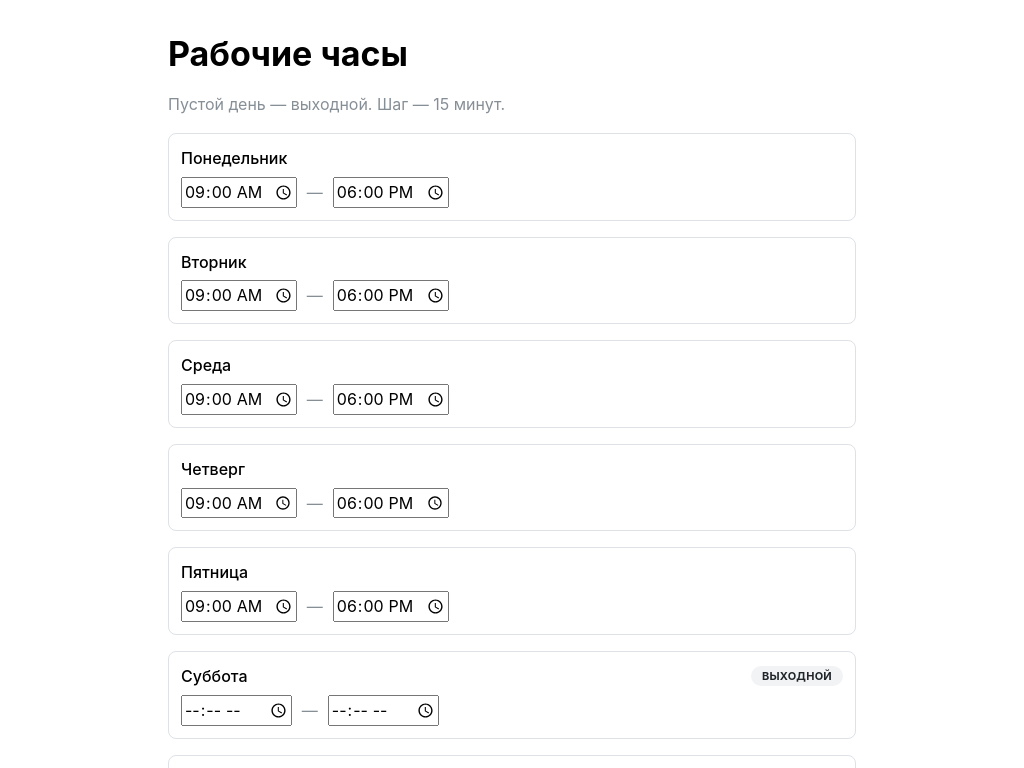
Test: Редактор рабочих часов › блокирует сохранение при частично заполненном дне
Expected: the time field named "Понедельник начало" is shown, [181,177,297,208]
Clear the time field named "Понедельник конец" at [391, 192], box [333,177,449,208]
(page scrolled)
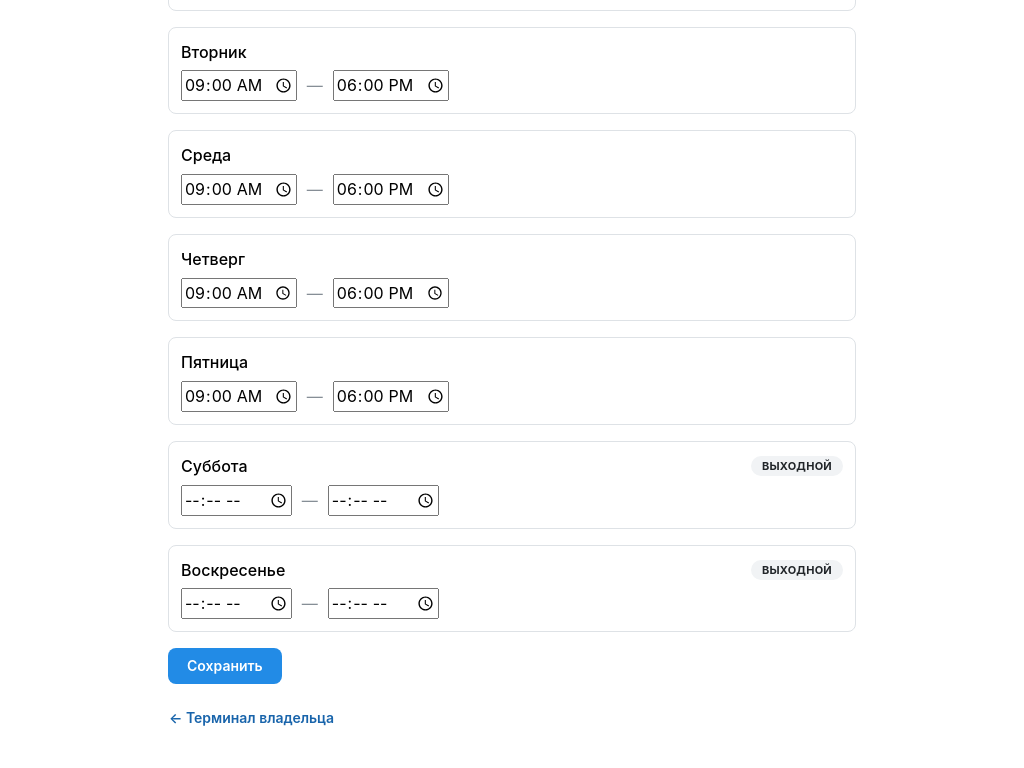
Click the button "Сохранить".
click(225, 666)  # box [168,648,282,684]
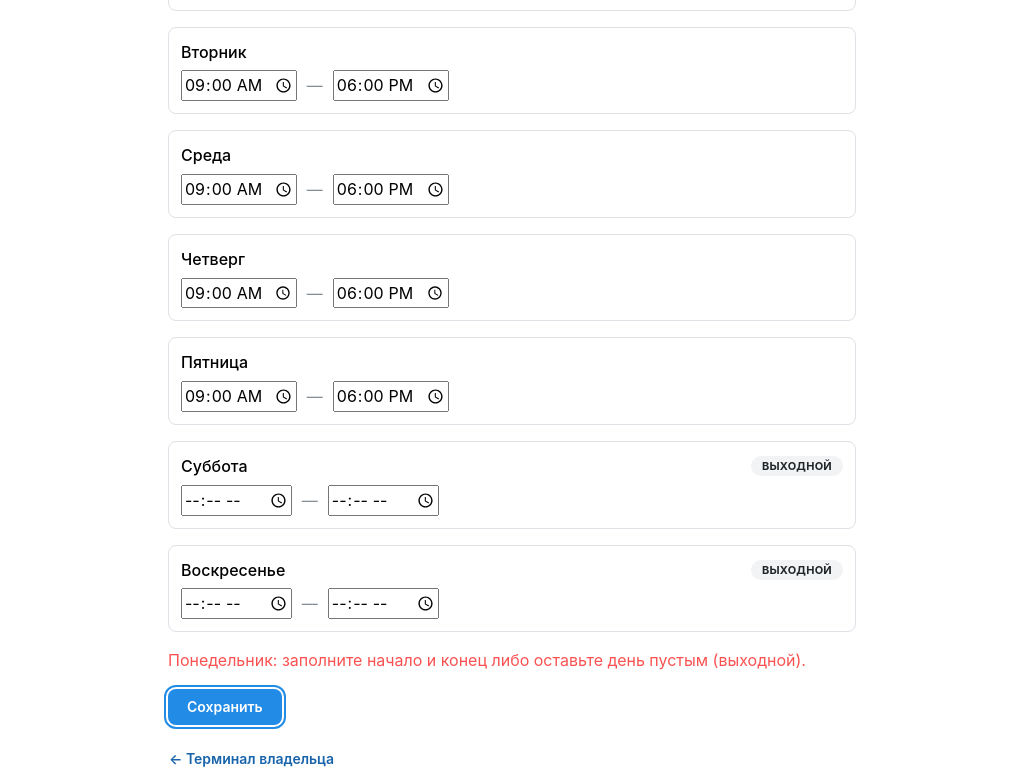
Now the text "заполните начало и конец" is shown, box [168,650,806,670]
